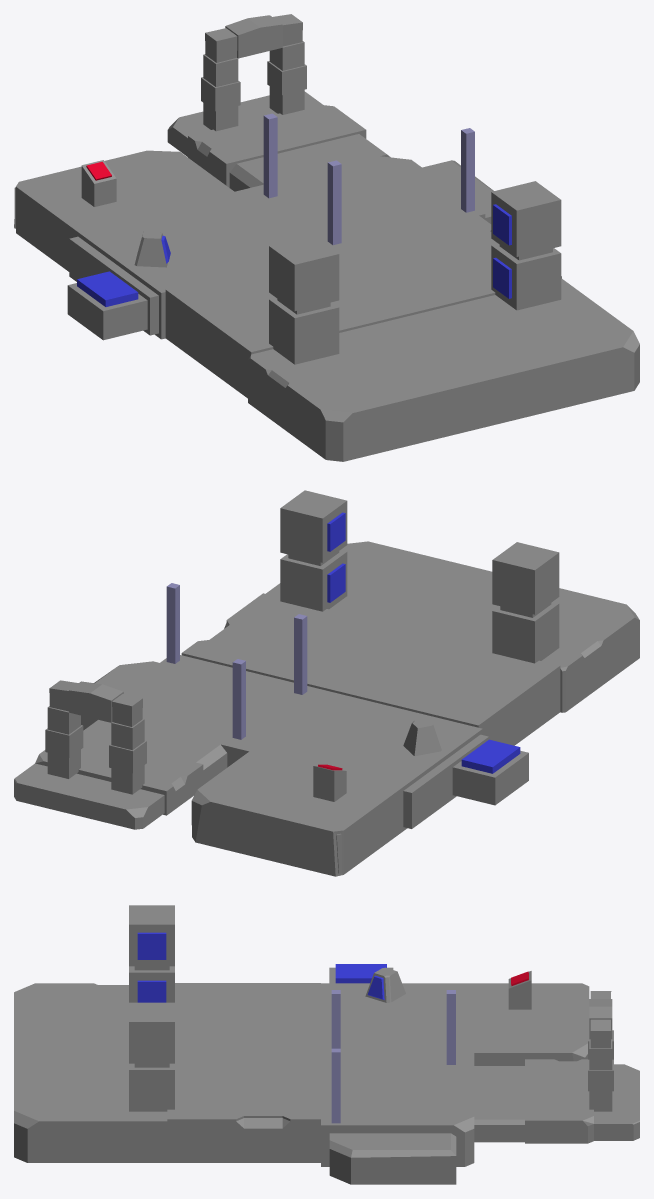
The model's file is stageblend 1.fbx.
3 views of the same model, one above another, from view 1: azimuth 30°, elevation 25°; view 2: azimuth 150°, elevation 25°; view 3: azimuth 270°, elevation 25° (orthographic). The views are drawn at different scales.
Parts seen in each view (by area): view 1: Cube, Cube.001, Goal, Panel; view 2: Cube, Cube.001, Goal, Panel; view 3: Cube, Cube.001, Goal, Panel.
Boxes of the visible parts, <box> form: Cube: <box>14,113,639,461</box>; Cube.001: <box>167,91,386,191</box>; Goal: <box>201,14,306,131</box>; Panel: <box>81,160,116,206</box>; Cube: <box>81,490,639,876</box>; Cube.001: <box>14,720,227,829</box>; Goal: <box>45,680,146,794</box>; Panel: <box>313,764,346,801</box>; Cube: <box>14,905,589,1184</box>; Cube.001: <box>474,1059,639,1143</box>; Goal: <box>588,991,613,1111</box>; Panel: <box>508,971,531,1009</box>.
Size of the model in its own units: 1900 by 630 by 2720.
